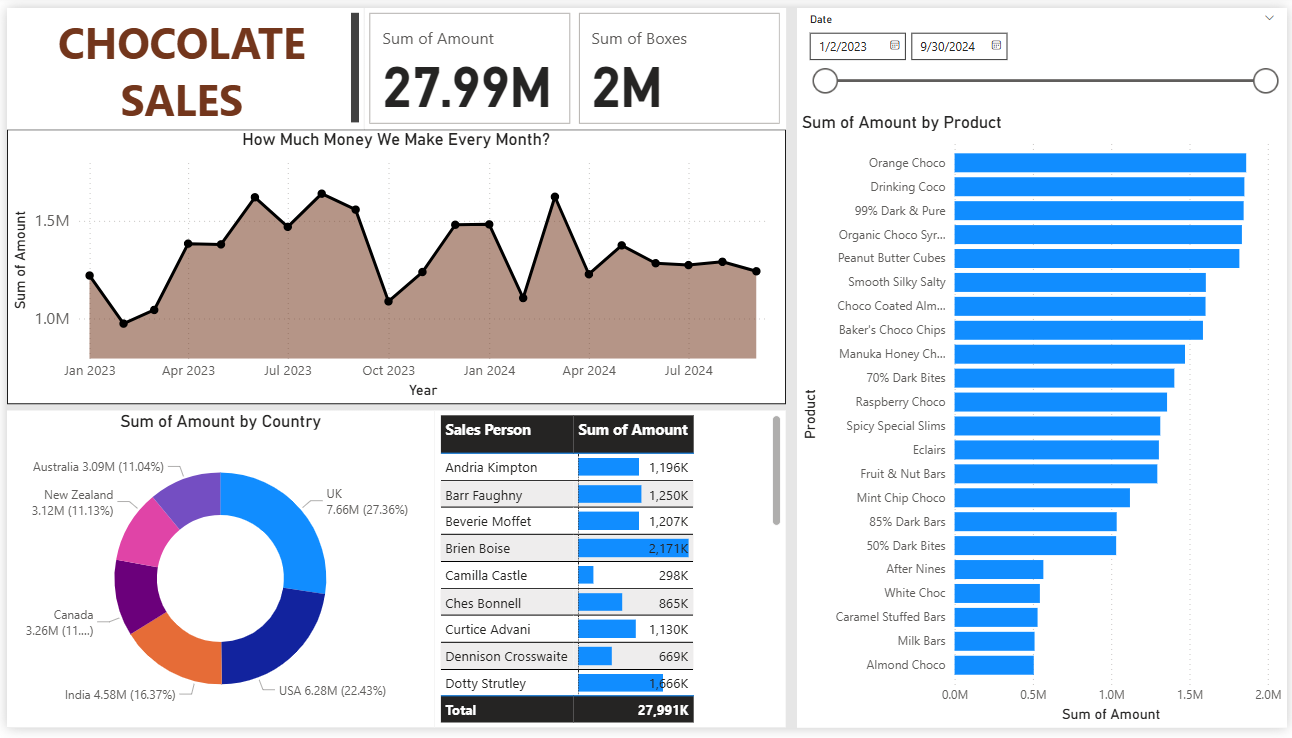

Layout of this report page (visuals, bound fields, positions):
{"tool":"powerbi","page":{"name":"Page 1","canvas":[1280,720],"ordinal":0},"visuals":[{"type":"lineChart","title":"How Much Money We Make Every Month?","fields":{"Category":["data.Date.Variation.Date Hierarchy.Year","data.Date.Variation.Date Hierarchy.Quarter","data.Date.Variation.Date Hierarchy.Month","data.Date.Variation.Date Hierarchy.Day"],"Y":["data.Amount"]},"box":[0,121.4,778.6,274.3],"z":0},{"type":"donutChart","fields":{"Category":["data.Country"],"Y":["data.Amount"]},"box":[0,402.9,427.1,317.1],"z":1000},{"type":"tableEx","fields":{"Values":["data.Sales Person","data.Amount"]},"box":[427.1,402.9,351.4,317.1],"z":2000},{"type":"barChart","fields":{"Category":["data.Product"],"Y":["data.Amount"]},"box":[790,104.3,490,615.7],"z":3000},{"type":"cardVisual","fields":{"Data":["data.Amount","data.Boxes"]},"box":[357.1,0,421.4,121.4],"z":3001},{"type":"textbox","box":[0,0,357.1,121.4],"z":3002},{"type":"slicer","fields":{"Values":["data.Date"]},"box":[790,0,490,104.3],"z":3003}]}

Visuals, with their boxes in screenshot pixels (x1, y1, x2, y2), scaled from the page's 1280x720 canvas onto the 1292x738 screenshot:
"How Much Money We Make Every Month?" lineChart: [left=0, top=124, right=786, bottom=406]
donutChart - data.Country x data.Amount: [left=0, top=413, right=431, bottom=737]
tableEx - data.Sales Person x data.Amount: [left=431, top=413, right=786, bottom=737]
barChart - data.Product x data.Amount: [left=797, top=107, right=1291, bottom=737]
cardVisual - data.Amount x data.Boxes: [left=360, top=0, right=786, bottom=124]
textbox: [left=0, top=0, right=360, bottom=124]
slicer - data.Date: [left=797, top=0, right=1291, bottom=107]
